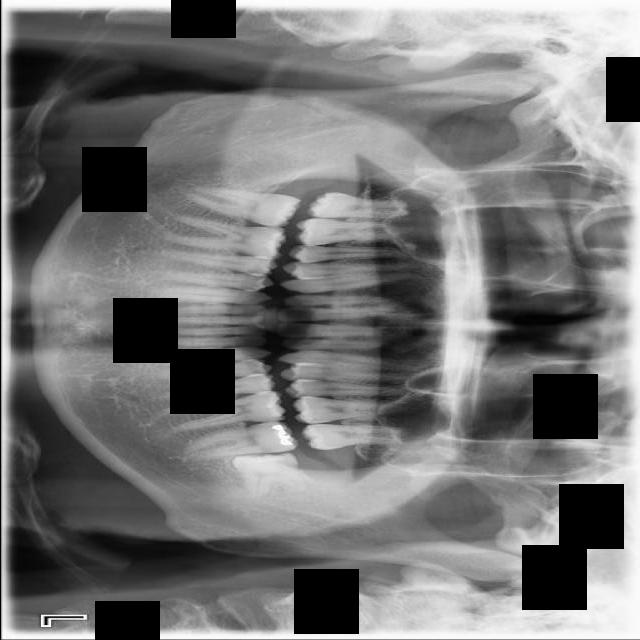52: (244, 418, 299, 457)
73: (50, 610, 65, 618)
BioHorizons Implant: (299, 423, 415, 452)
Biomet 3i Implant: (230, 448, 307, 499)
Blue Sky Bio Implant: (181, 419, 299, 461)
Caries: (305, 190, 422, 228)
Implant: (184, 182, 301, 230)
